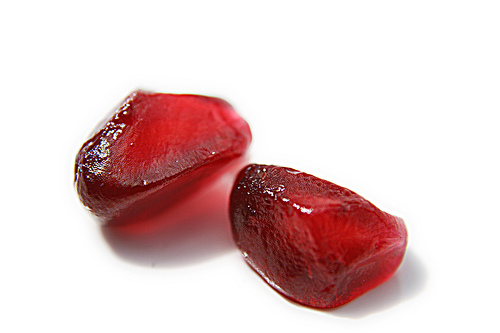pomogranate: (228, 161, 409, 310), (71, 85, 254, 228)
